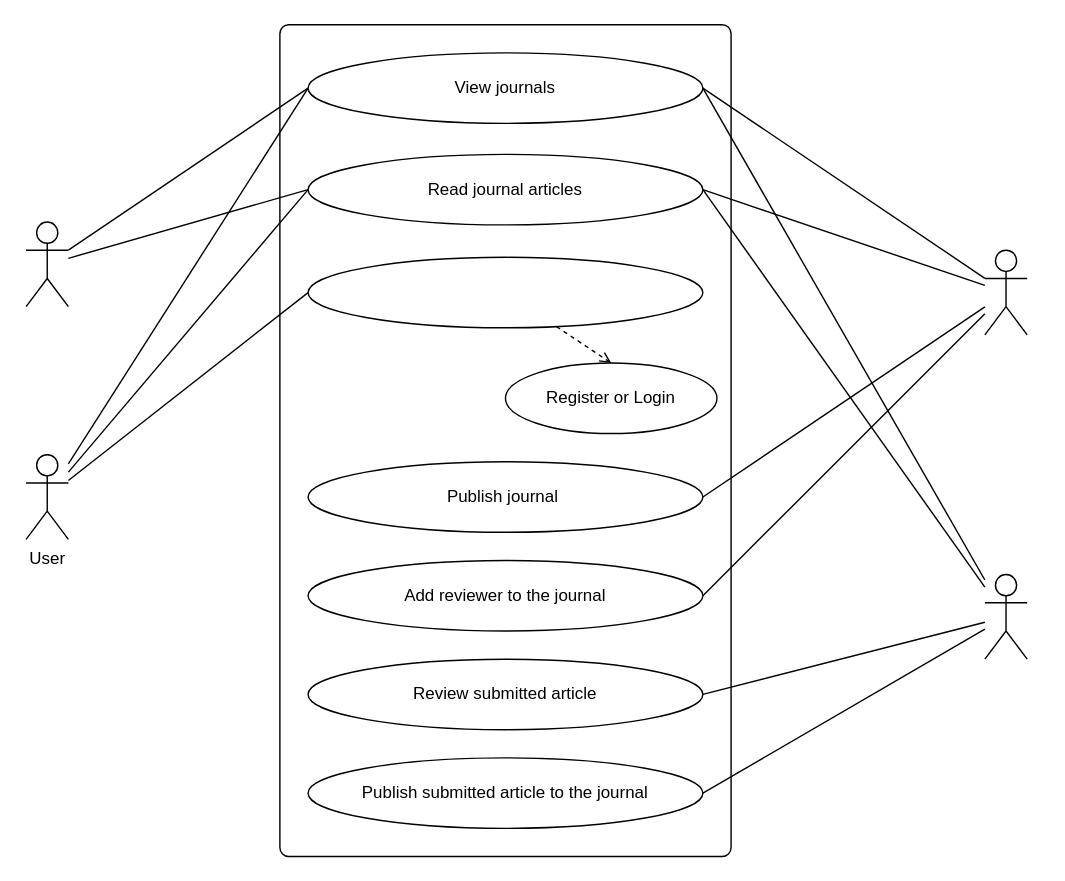
This 1065x881 diagram has some shape labels left out. The box of each missing label's shape, as (x1, y1, x2, y2) in pixels:
Admin: (983, 249, 1027, 335)
Guest: (25, 221, 68, 307)
Reviewer: (983, 573, 1027, 659)
Submit journal article: (307, 256, 703, 328)
